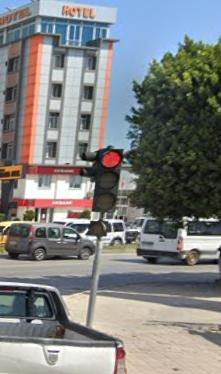redlight: (95, 147, 121, 206)
